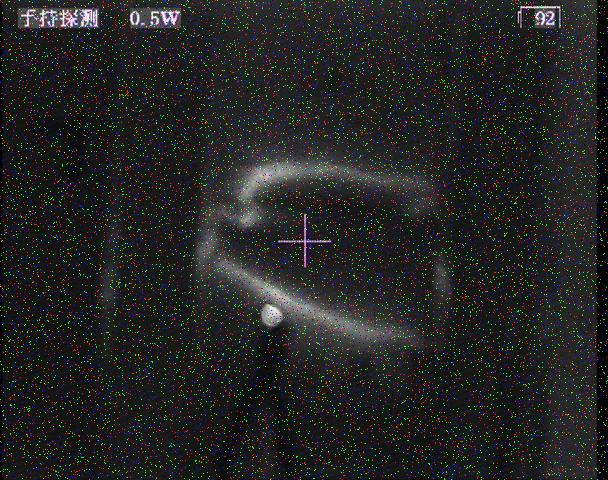my: (259, 303, 285, 329)
